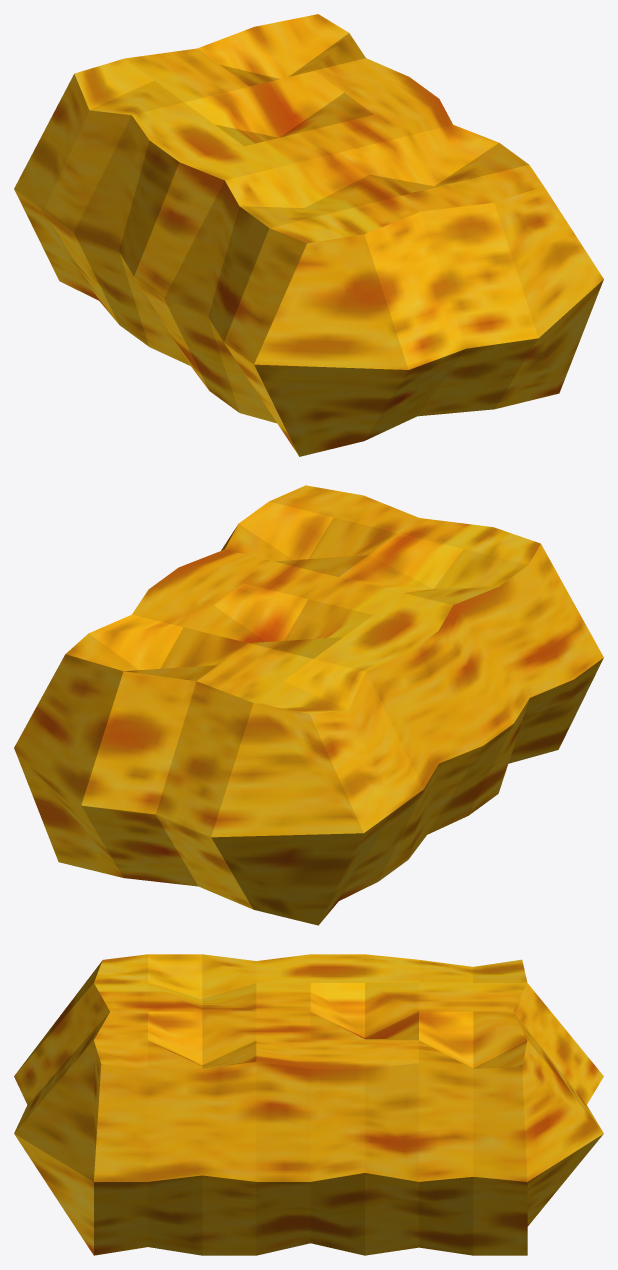
Rendered from Gubka.fbx.
3 renders of one model, top to bottom at view 1: azimuth 30°, elevation 25°; view 2: azimuth 150°, elevation 25°; view 3: azimuth 270°, elevation 25°, orthographic. The views are drawn at different scales.
Parts seen in each view (by area): view 1: Cube; view 2: Cube; view 3: Cube.
Part boxes in pixels (x1,y1,x2,y2): Cube: (14,14,603,456); Cube: (14,485,603,925); Cube: (14,954,603,1255).
Size of the model in its own units: 354 by 200 by 572.
1 material, 1 textured.
